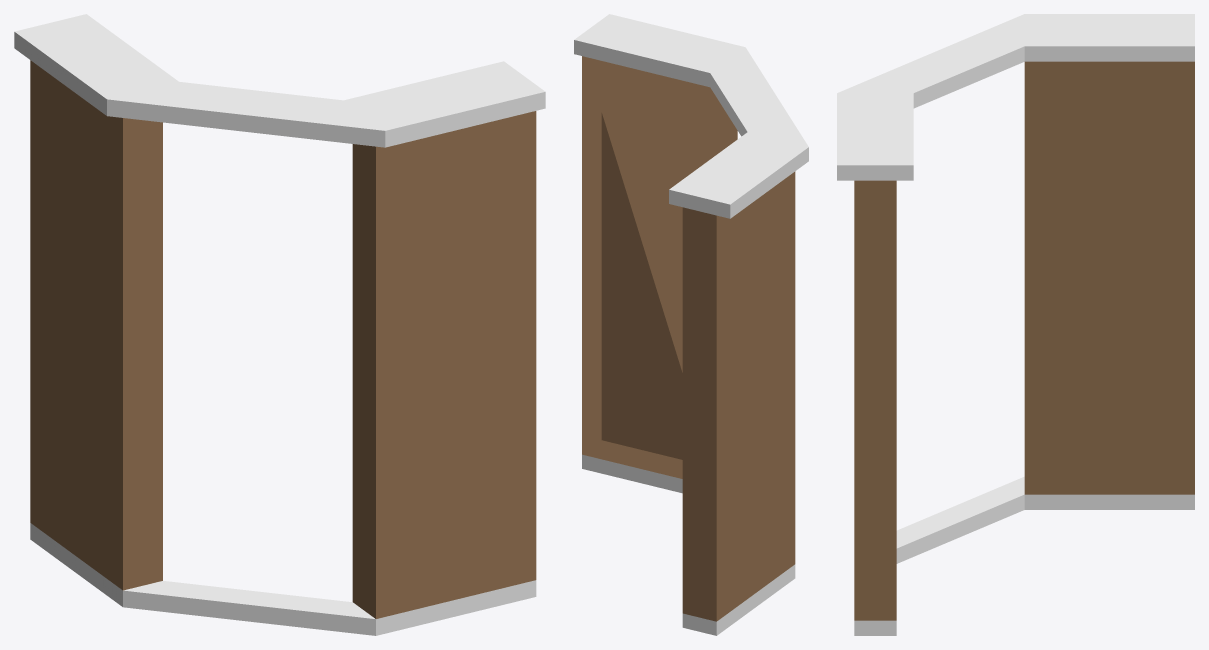
Rendered from SM_200x300_HighWindow_BevelCorner.fbx.
3 views of the same model, side by side, from view 1: azimuth 30°, elevation 25°; view 2: azimuth 150°, elevation 25°; view 3: azimuth 270°, elevation 25° (orthographic). The views are drawn at different scales.
Visible parts, largest first — view 1: SM_200x300_HighWindow_BevelCorner; view 2: SM_200x300_HighWindow_BevelCorner; view 3: SM_200x300_HighWindow_BevelCorner.
Boxes of the visible parts, box(x1,y1,x2,y2) form: SM_200x300_HighWindow_BevelCorner: box(14, 14, 545, 635); SM_200x300_HighWindow_BevelCorner: box(574, 14, 808, 635); SM_200x300_HighWindow_BevelCorner: box(837, 14, 1194, 635).
Size of what is drawn, in the model's own units: 210 by 210 by 305.
